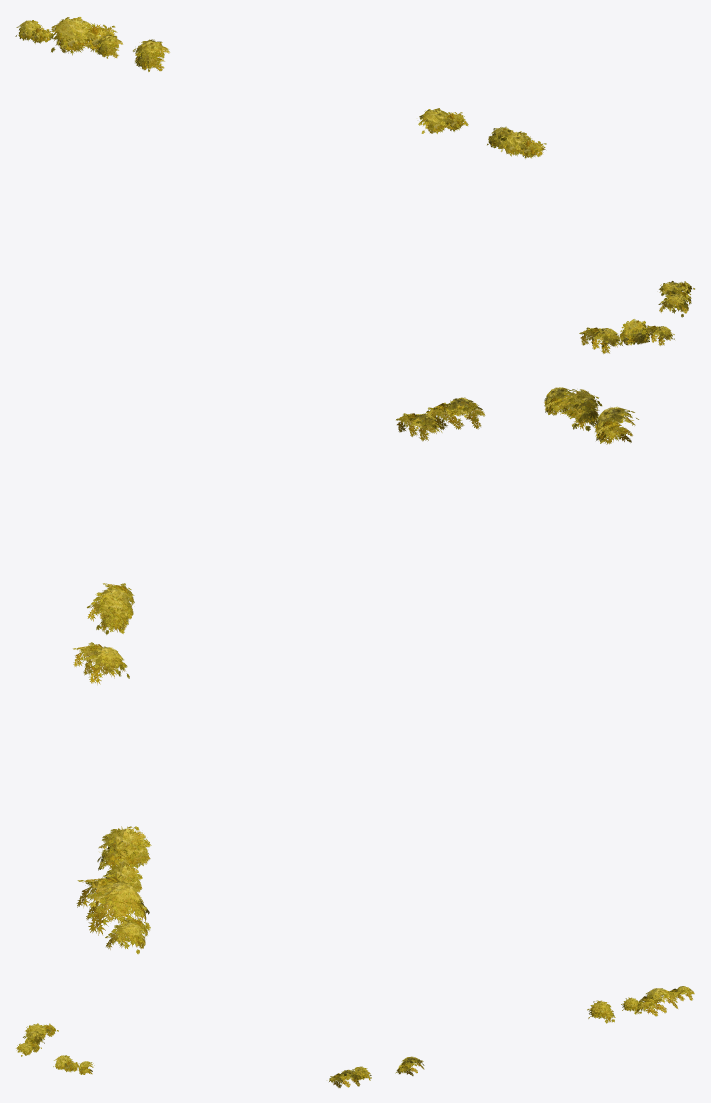
Rendered from guanmu03.fbx.
The picture shows the model from 3 angles, top to bottom: view 1: azimuth 30°, elevation 25°; view 2: azimuth 150°, elevation 25°; view 3: azimuth 270°, elevation 25°; orthographic projection. The views are drawn at different scales.
Parts seen in each view (by area): view 1: guanmu03; view 2: guanmu03; view 3: guanmu03.
Part boxes in pixels (x1,y1,x2,y2): guanmu03: (15,17,694,353); guanmu03: (73,387,638,954); guanmu03: (16,986,694,1087).
Bounding box in the file's own units: 3050 × 349 × 9146.
1 material, 1 textured.
